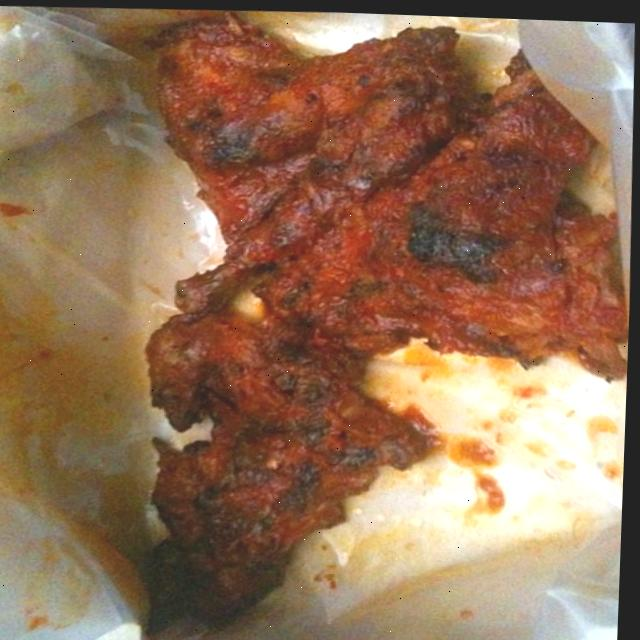鸡肉料理 含炸鸡: (57, 2, 626, 630)
